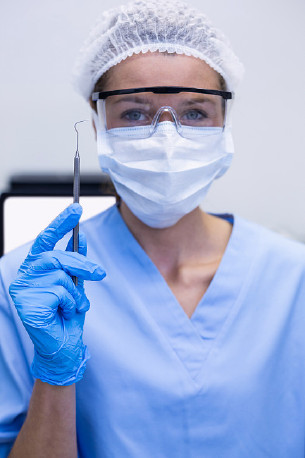face_mask: (100, 58, 222, 225)
